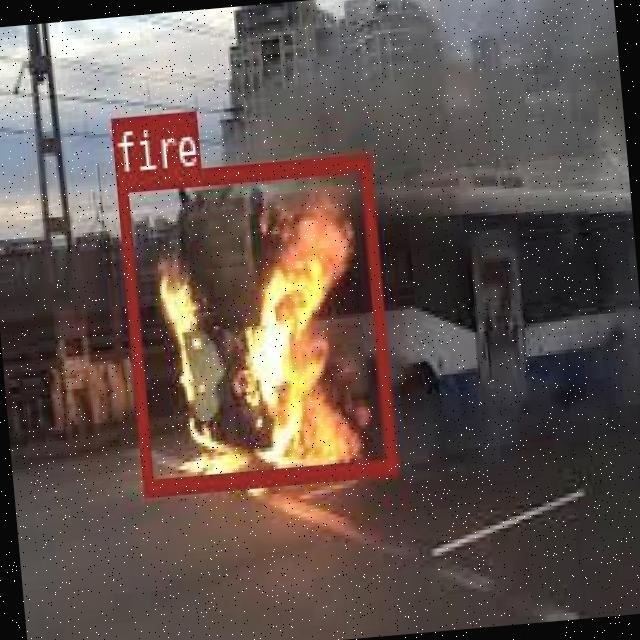fire: (115, 151, 394, 493)
